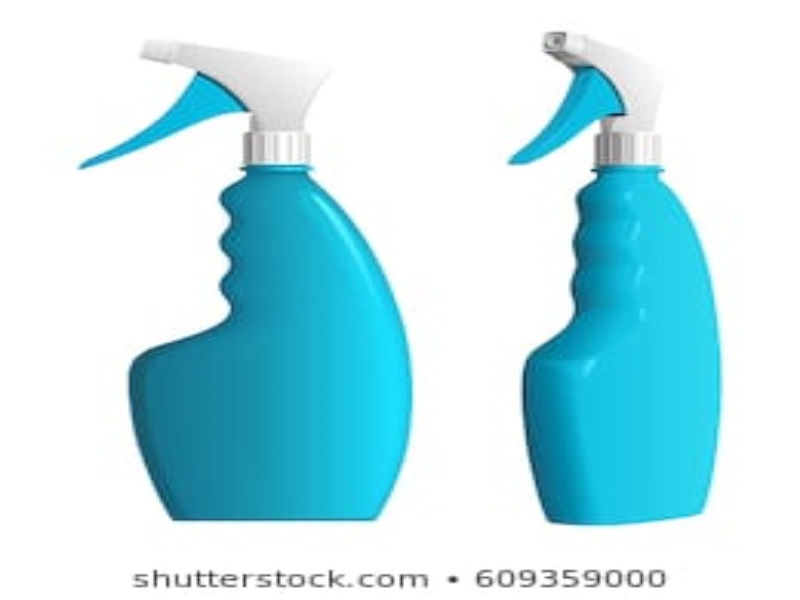detergent-bottle: (77, 37, 415, 521), (506, 32, 732, 526)
